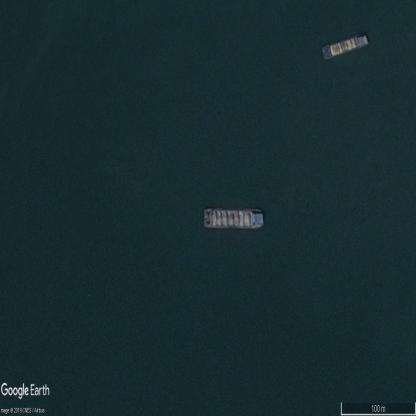ship: (321, 32, 370, 63), (204, 206, 265, 229)
